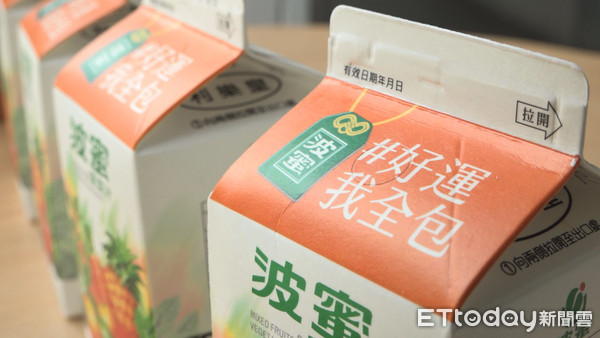vegetables juice: (203, 20, 600, 335), (48, 14, 200, 331)
